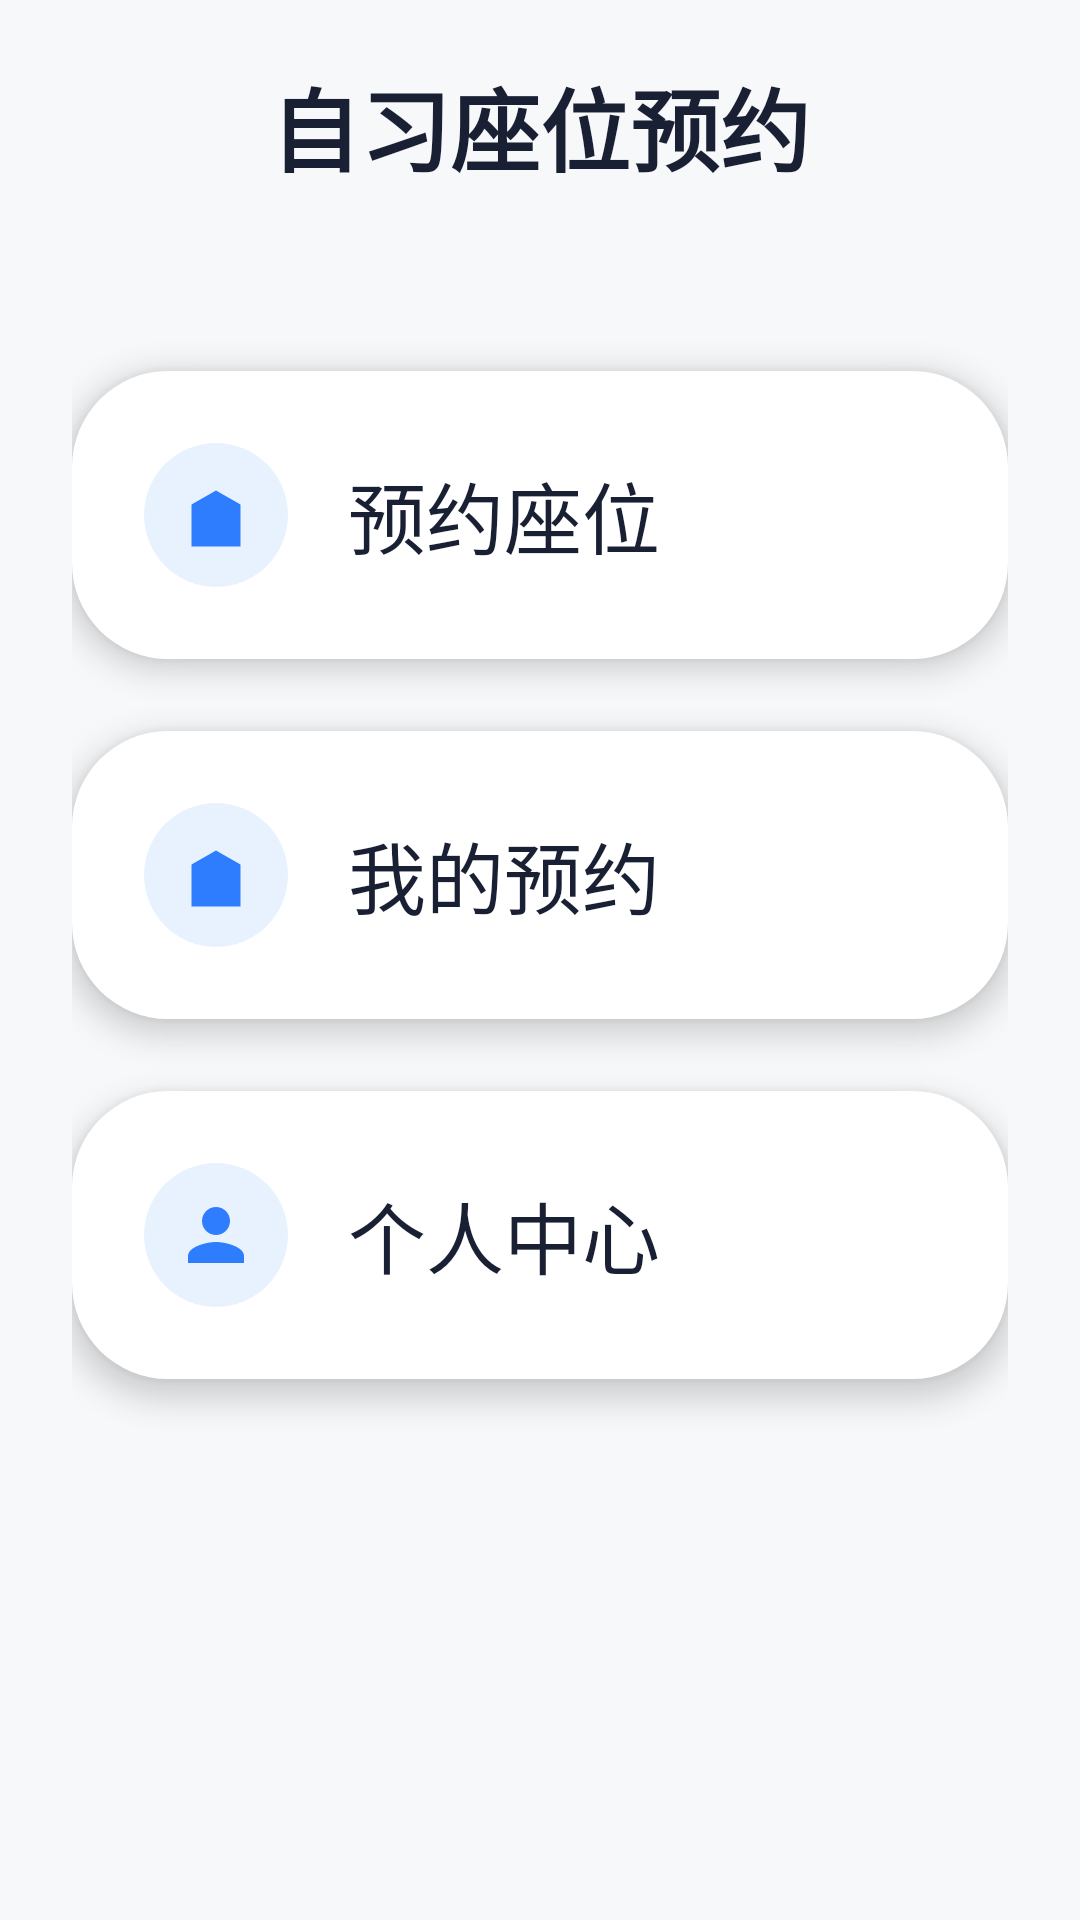

Icon click points for this 1080*1920 phone screenshot, format (x=x, y=y):
personal: (x=216, y=1235)
